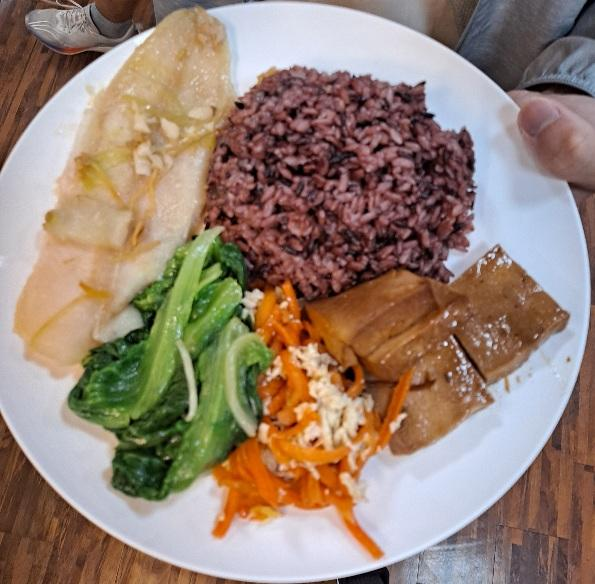big fried chicken leg: (0, 10, 580, 584)
braised fish: (210, 67, 476, 286)
braised fish fillet: (300, 257, 553, 448), (84, 242, 256, 501), (245, 298, 386, 521)
braised pork ribs: (33, 15, 225, 369)
